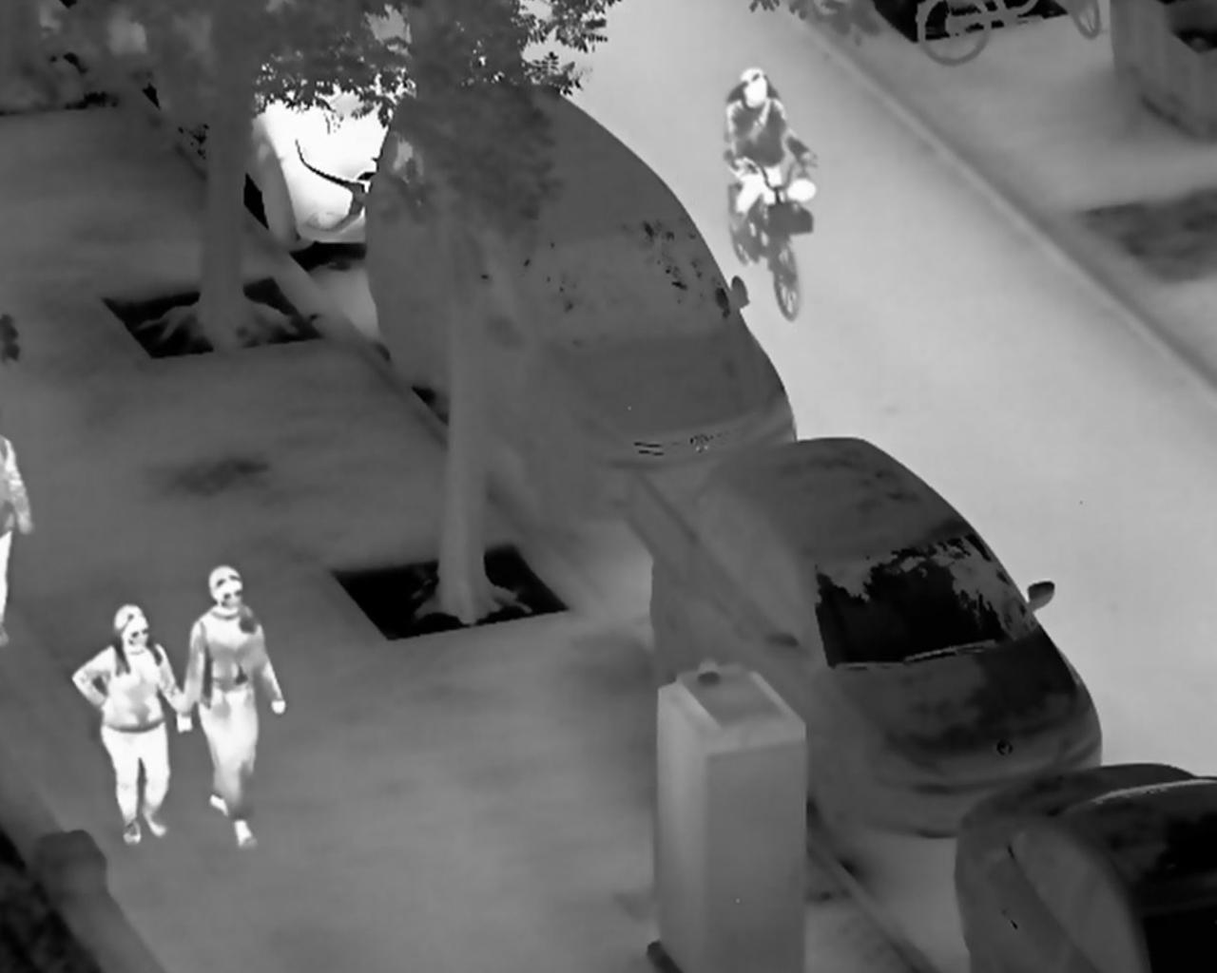person: (175, 564, 283, 852), (66, 603, 181, 847), (723, 66, 821, 246)
